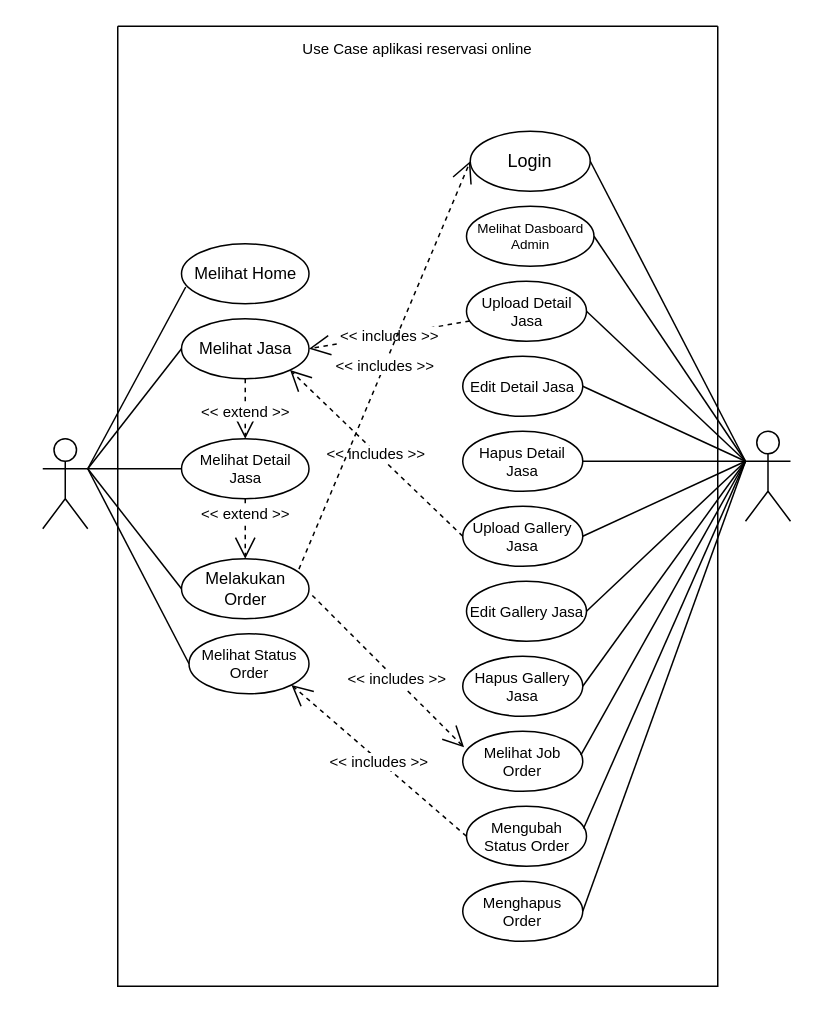
Some shapes in this 819 by 1013 pixel diagram are drawn without their labels. The shapes that lost their labels are listed below. From the top down, each one's box as (x1, y1, x2, y2) in pixels, then its label:
(41, 437, 88, 529): Customer
(744, 430, 790, 521): Admin
